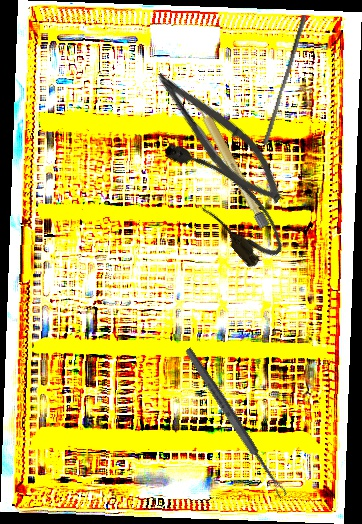Cannula: (154, 123, 294, 274)
Micro Scissor: (139, 62, 298, 214)
Pusher: (262, 13, 307, 147)
Scalpel Handle: (191, 94, 271, 231)
Surgical Spoon: (182, 346, 289, 500)
